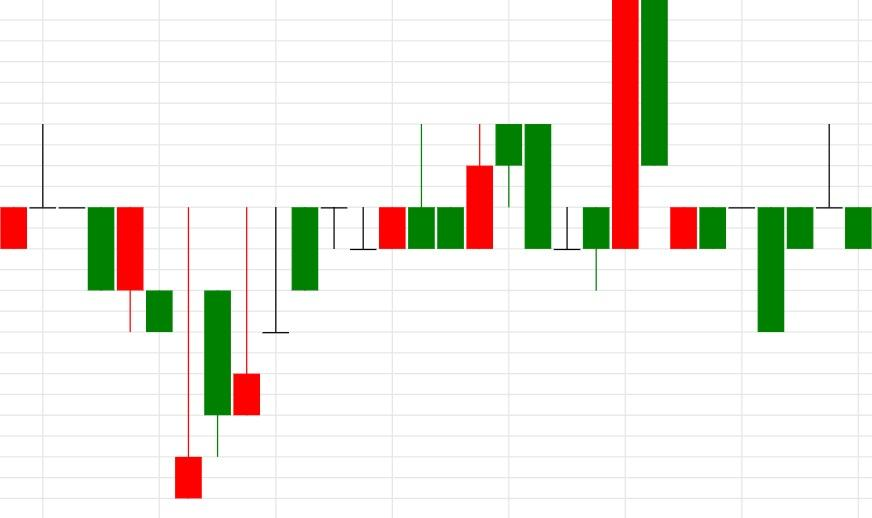inverse_hammer_rise: (28, 124, 203, 498)
